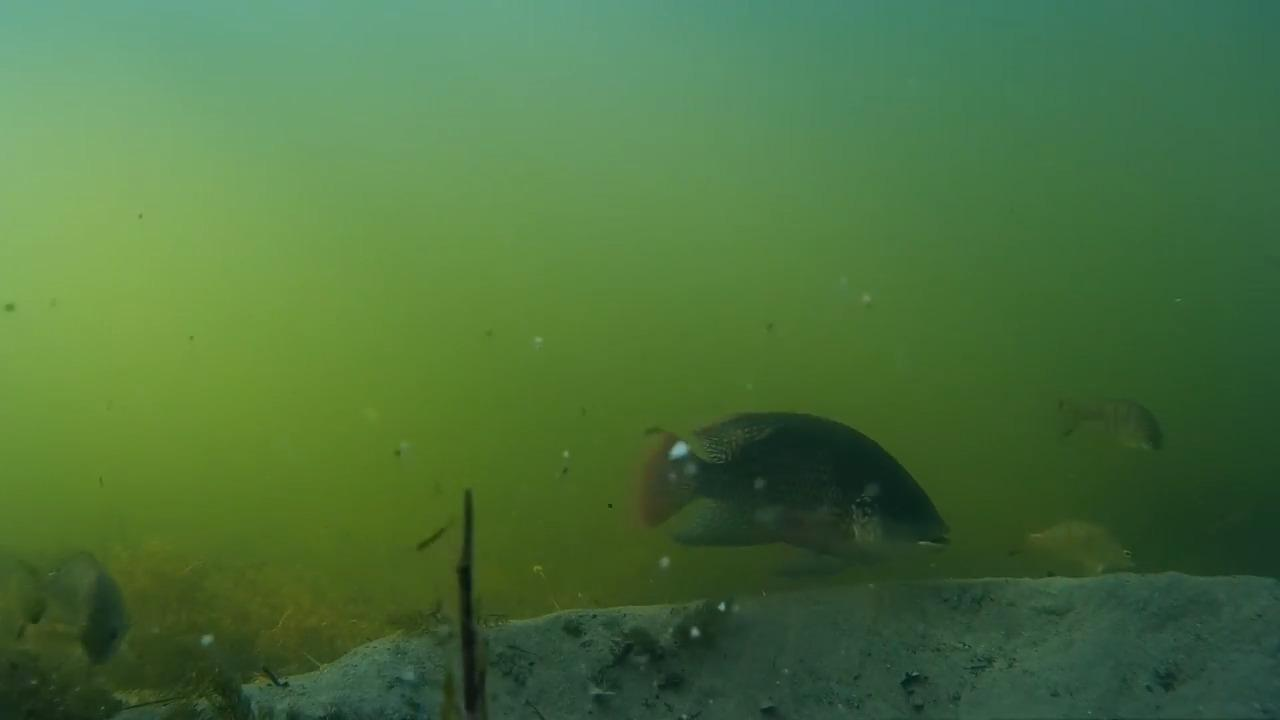Tilapia: (624, 412, 951, 576), (13, 544, 157, 668), (1002, 512, 1157, 590), (1052, 396, 1179, 480)
